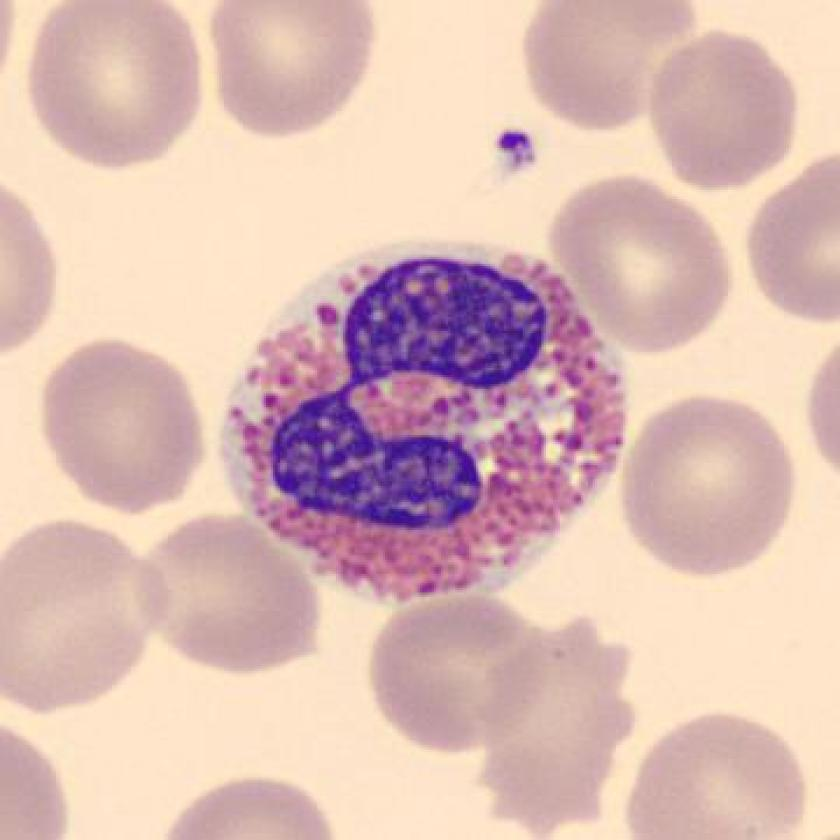eosinophil: (206, 228, 643, 617)
